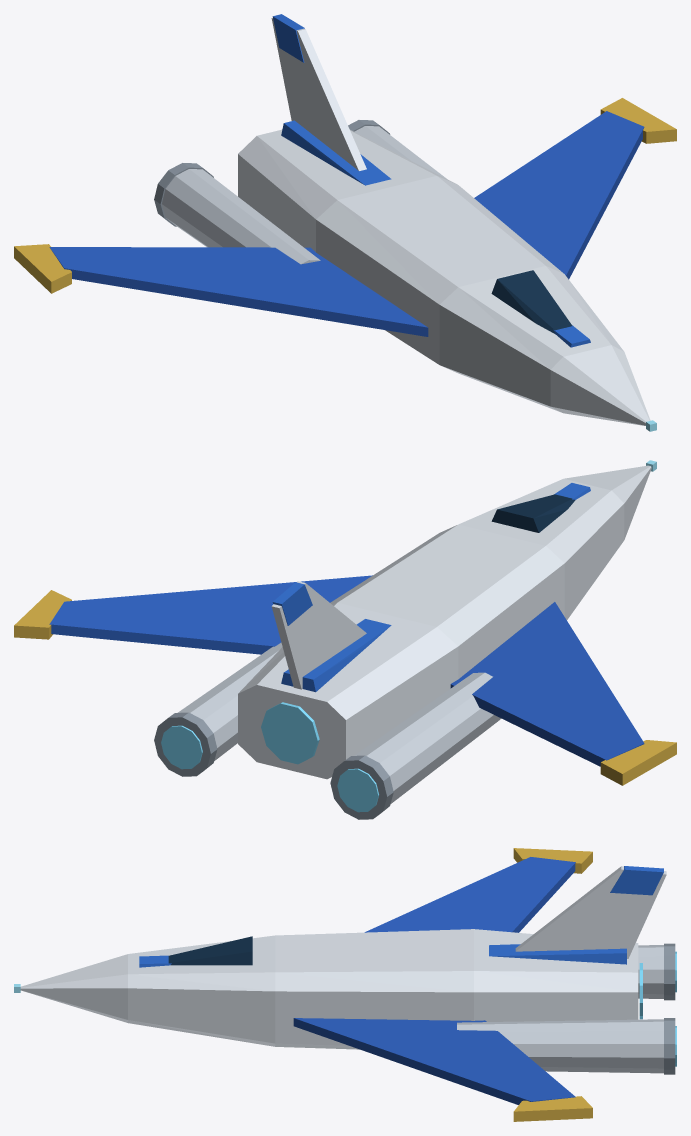
The model's file is atreides.obj.
3 renders of one model, top to bottom at view 1: azimuth 30°, elevation 25°; view 2: azimuth 150°, elevation 25°; view 3: azimuth 270°, elevation 25°, orthographic. The views are drawn at different scales.
Visible parts, largest first — view 1: корпус, крыло, гондола, киль, законцовка, кабина, полоса, обод_сопла, киль,_полоса; view 2: корпус, крыло, гондола, киль, обод_сопла, законцовка, сопло, сопло_центр, полоса, кабина, киль,_полоса; view 3: корпус, крыло, гондола, киль, законцовка, полоса, кабина, обод_сопла, киль,_полоса.
Boxes of the visible parts, x1=… form: корпус: x1=238, y1=129, x2=650, y2=425; крыло: x1=49, y1=111, x2=644, y2=336; гондола: x1=162, y1=126, x2=447, y2=264; киль: x1=271, y1=17, x2=366, y2=170; законцовка: x1=14, y1=98, x2=676, y2=293; кабина: x1=491, y1=270, x2=572, y2=334; полоса: x1=281, y1=120, x2=590, y2=347; обод_сопла: x1=154, y1=120, x2=390, y2=226; киль,_полоса: x1=272, y1=14, x2=304, y2=62; корпус: x1=238, y1=465, x2=651, y2=779; крыло: x1=49, y1=575, x2=644, y2=766; гондола: x1=177, y1=642, x2=501, y2=803; киль: x1=271, y1=581, x2=366, y2=689; обод_сопла: x1=154, y1=712, x2=393, y2=819; законцовка: x1=14, y1=590, x2=676, y2=785; сопло: x1=161, y1=725, x2=378, y2=812; сопло_центр: x1=261, y1=702, x2=319, y2=764; полоса: x1=281, y1=483, x2=590, y2=692; кабина: x1=491, y1=494, x2=575, y2=532; киль,_полоса: x1=272, y1=582, x2=312, y2=625; корпус: x1=20, y1=929, x2=638, y2=1049; крыло: x1=293, y1=857, x2=575, y2=1104; гондола: x1=457, y1=945, x2=663, y2=1073; киль: x1=515, y1=866, x2=666, y2=958; законцовка: x1=513, y1=848, x2=592, y2=1121; полоса: x1=139, y1=944, x2=626, y2=967; кабина: x1=168, y1=936, x2=252, y2=965; обод_сопла: x1=664, y1=943, x2=675, y2=1074; киль,_полоса: x1=610, y1=866, x2=663, y2=895.
Bounding box in the file's own units: 11 × 3.25 × 11.69.
